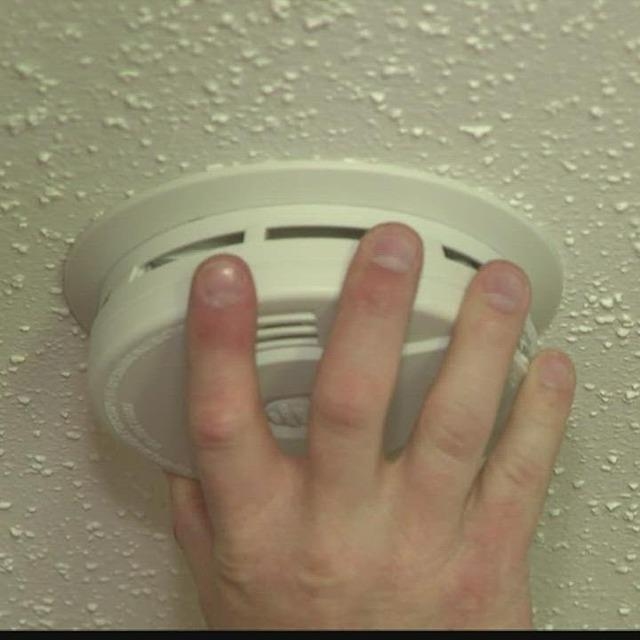Smoke-Detector: (27, 156, 545, 434)
